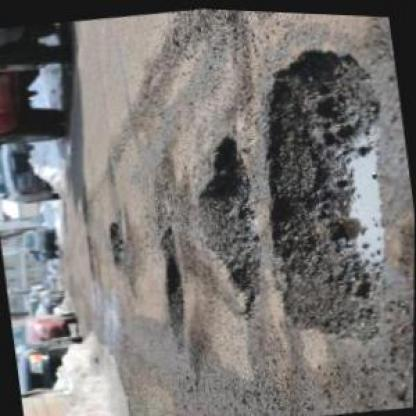pothole: (241, 32, 412, 351), (183, 128, 272, 320), (152, 222, 192, 351), (102, 219, 128, 265)
